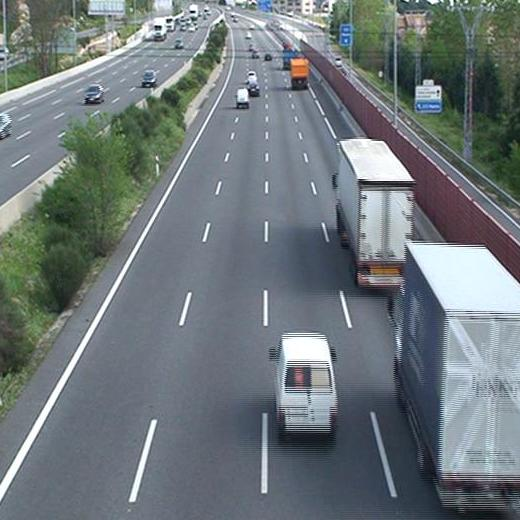car: (244, 71, 259, 84)
small-truck: (288, 56, 310, 90)
truck: (388, 237, 520, 509), (333, 139, 411, 287)
van: (268, 331, 342, 440), (234, 88, 250, 107)
